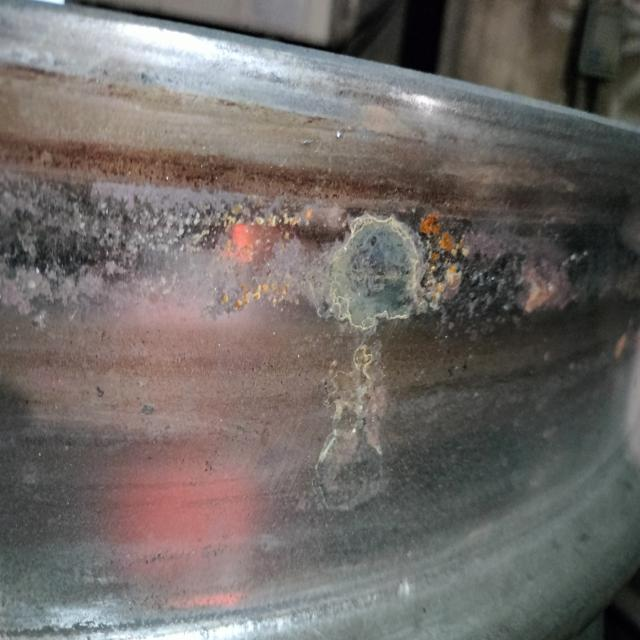flat: (1, 156, 640, 341)
